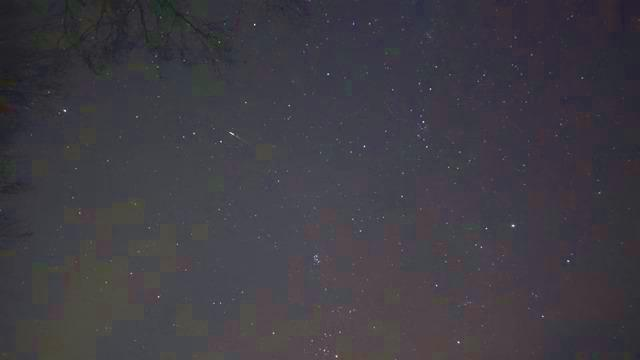meteorite: (217, 128, 253, 145)
